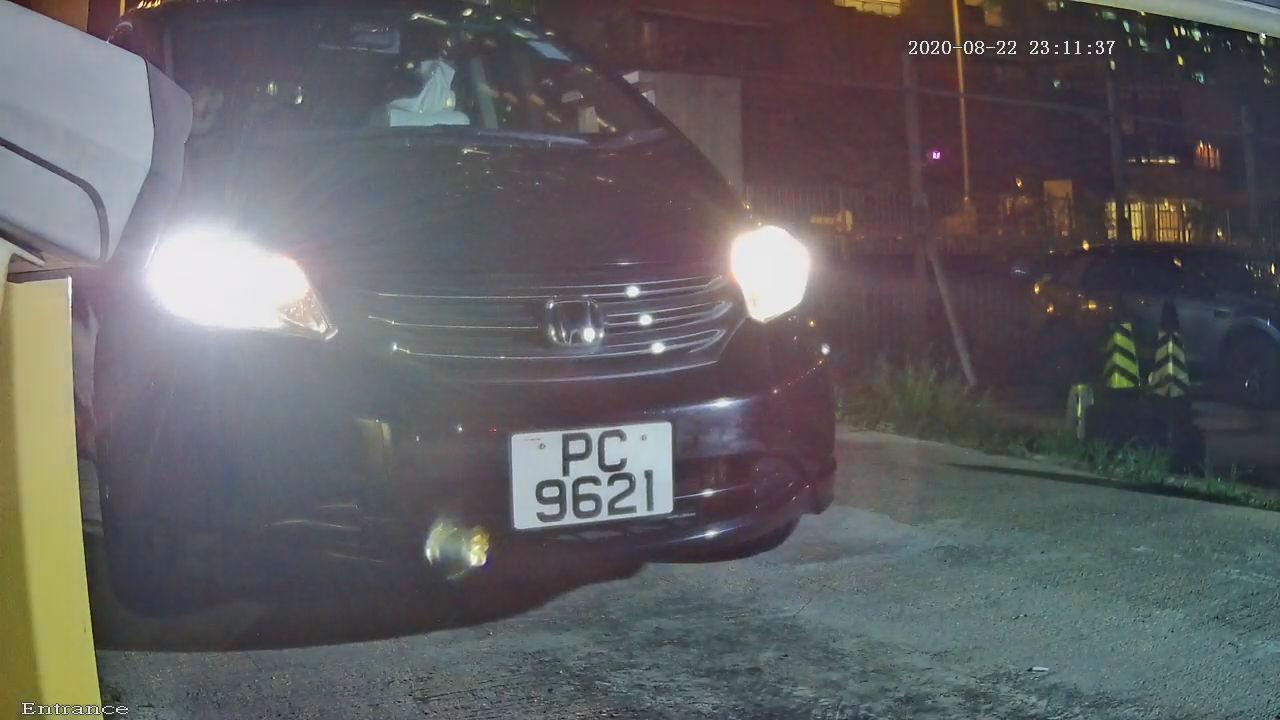Car: (12, 10, 909, 663)
License Plate: (498, 415, 686, 537)
